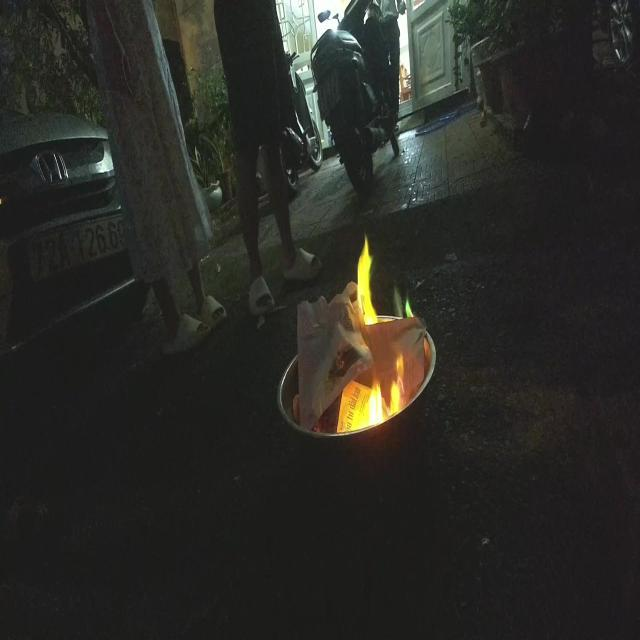Fire: (354, 232, 414, 438)
